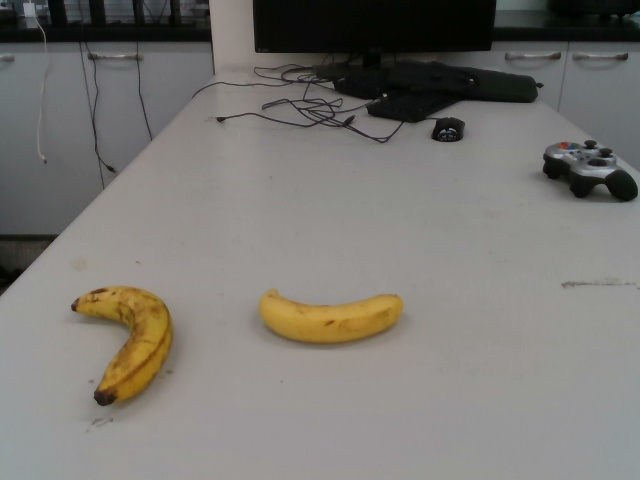banana: (65, 284, 175, 409), (256, 286, 405, 345)
